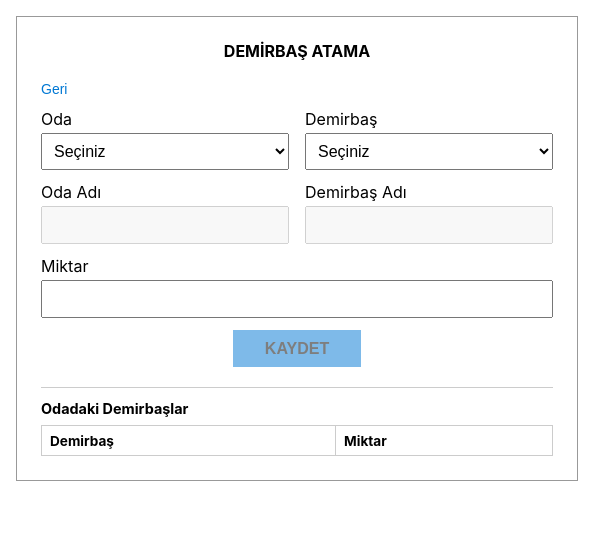
Test: AssetAssignment › AC-6: with room, asset, and a valid quantity, clicking KAYDET creates the assignment, shows success, clears only the quantity field, and re-fetches assets and a
Select "Toplantı Odası" in the dropdown labelled "Oda" at (165, 152), box 41,133 -> 289,170
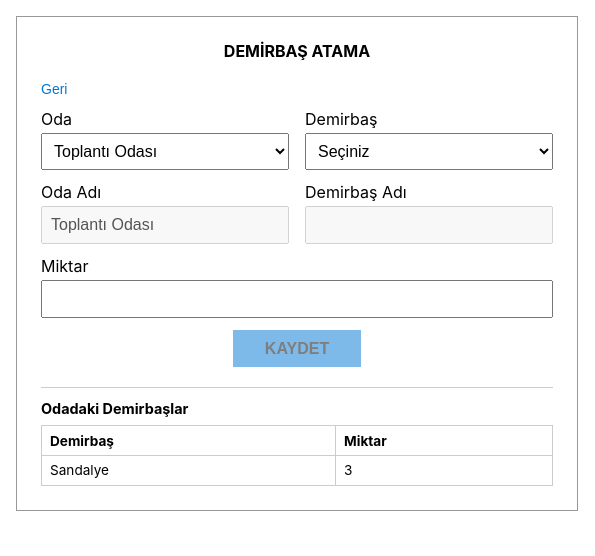
Select "Sandalye" in the dropdown labelled "Demirbaş" at (429, 152), box 305,133 -> 553,170
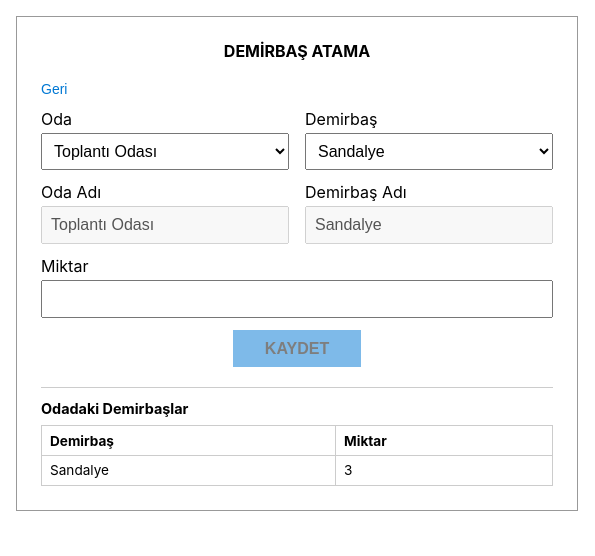
Type "3" into the field labelled "Miktar" at (297, 299), box 41,280 -> 553,318
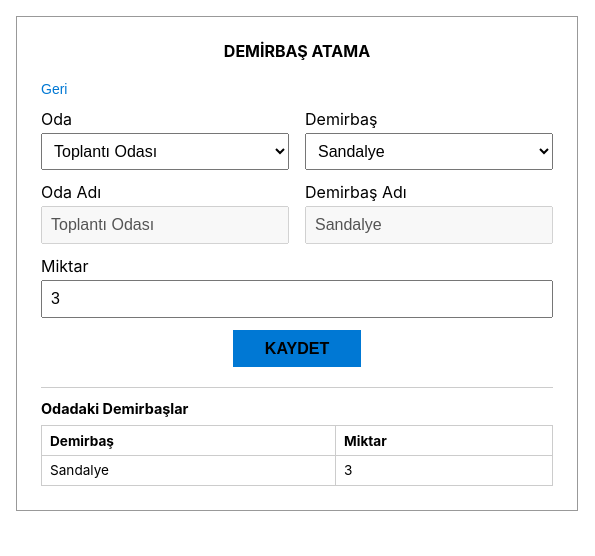
Click the button "KAYDET" at (297, 349), box 233,330 -> 361,367
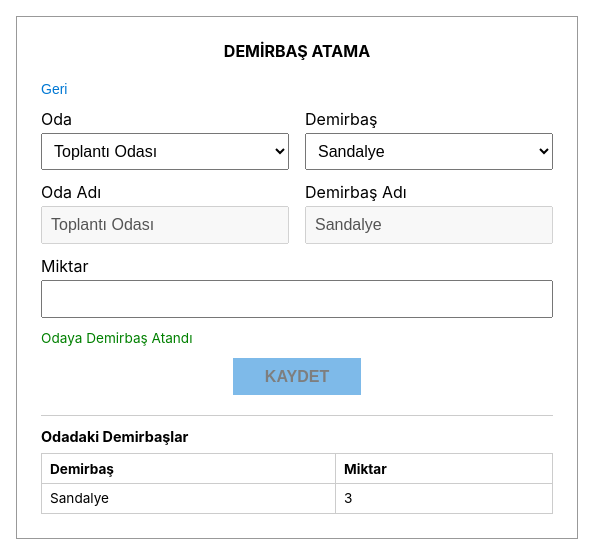
Result: the text "Odaya Demirbaş Atandı" is shown at 41,330 -> 192,346
Result: the field labelled "Miktar" is empty at 41,280 -> 553,318
